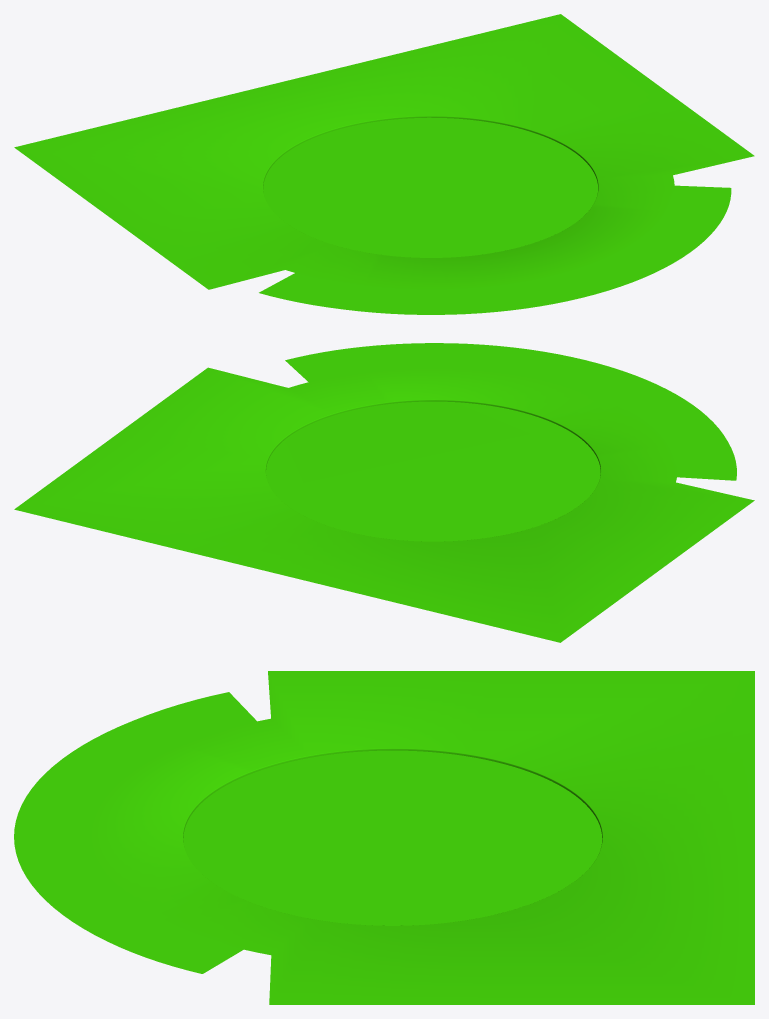
Rendered from S_Floor.fbx.
The picture shows the model from 3 angles, top to bottom: view 1: azimuth 30°, elevation 25°; view 2: azimuth 150°, elevation 25°; view 3: azimuth 270°, elevation 25°; orthographic projection. The views are drawn at different scales.
Parts seen in each view (by area): view 1: S_Floor; view 2: S_Floor; view 3: S_Floor.
Part boxes in pixels (box(x1,y1,x2,y2)): S_Floor: box(14, 14, 754, 314); S_Floor: box(14, 343, 754, 642); S_Floor: box(14, 671, 754, 1004).
Size of the model in its own units: 1543 by 4.16 by 1448.
